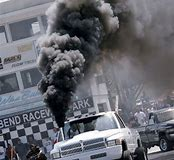smoke: (38, 1, 121, 126)
